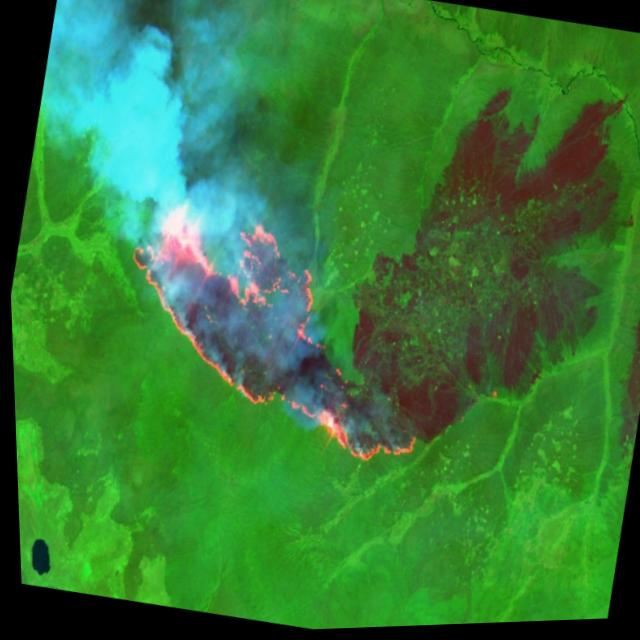fire: (93, 171, 456, 477)
